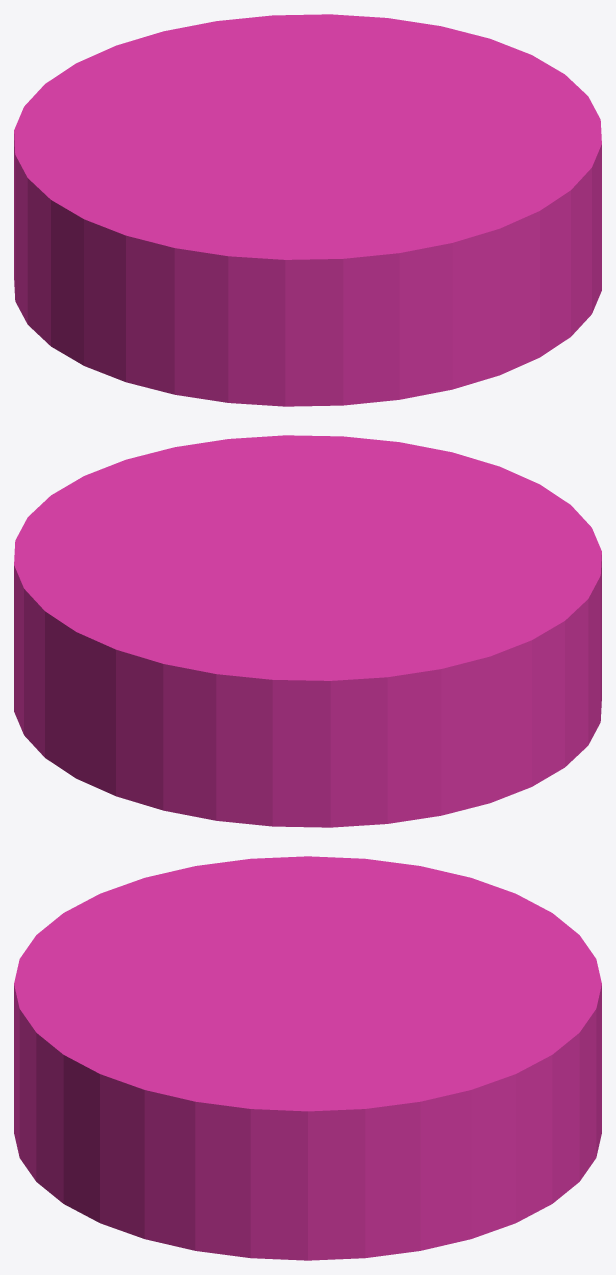
The model's file is lens.glb.
3 renders of one model, top to bottom at view 1: azimuth 30°, elevation 25°; view 2: azimuth 150°, elevation 25°; view 3: azimuth 270°, elevation 25°, orthographic.
Parts seen in each view (by area): view 1: Cylinder.001; view 2: Cylinder.001; view 3: Cylinder.001.
Boxes of the visible parts, left/top/right/bottom form: Cylinder.001: left=14, top=14, right=601, bottom=406; Cylinder.001: left=14, top=435, right=601, bottom=827; Cylinder.001: left=14, top=856, right=601, bottom=1260.
Size of the model in its own units: 1.54 by 0.42 by 1.5.
